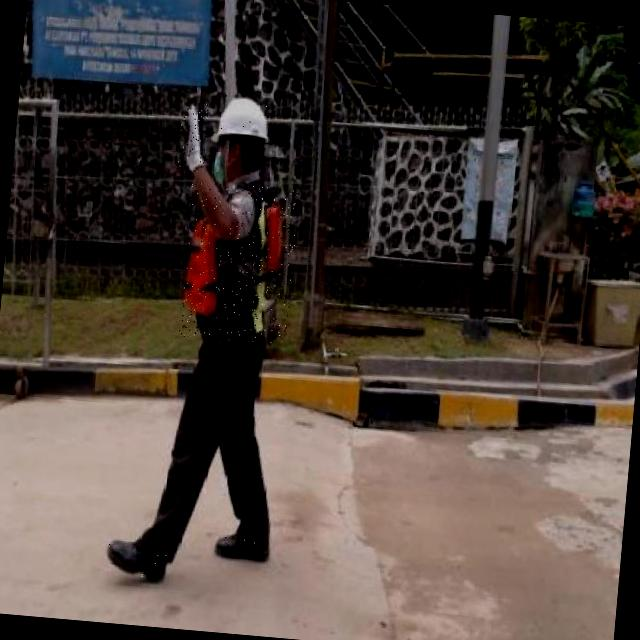boots: (102, 536, 172, 582), (211, 523, 274, 568)
helmet: (210, 94, 274, 145)
vest: (178, 180, 300, 345)
